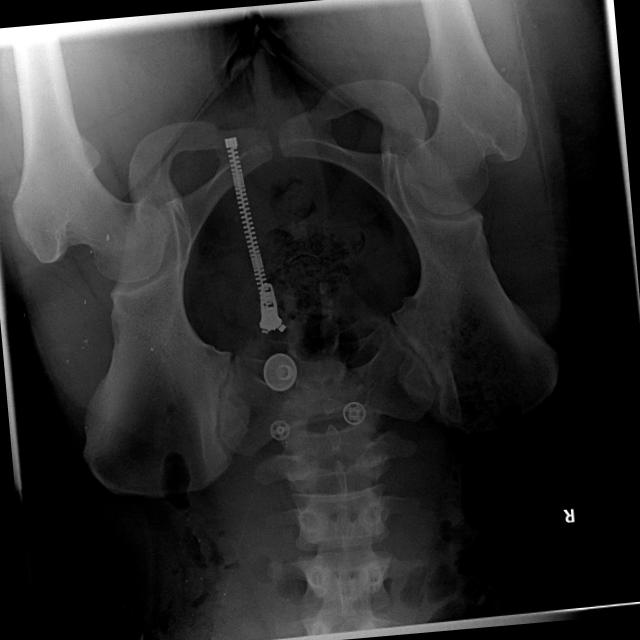normal-left: (9, 24, 170, 283)
normal-right: (401, 0, 525, 214)
